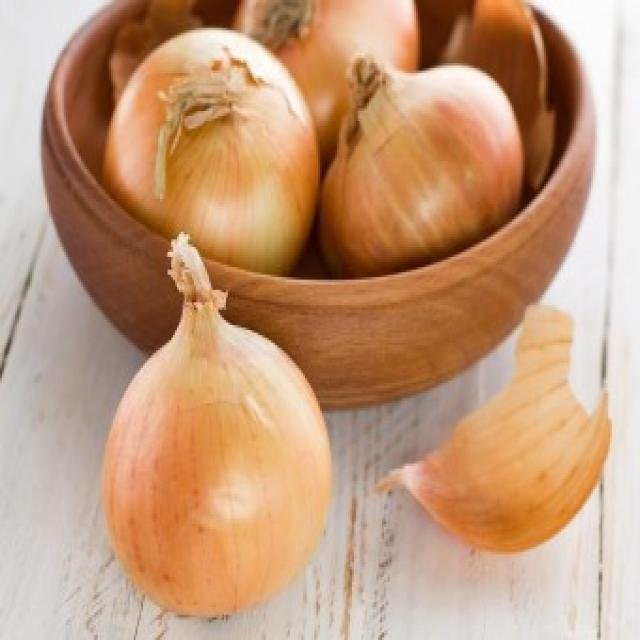onion: (100, 235, 334, 620), (101, 27, 321, 277), (318, 53, 523, 280)
